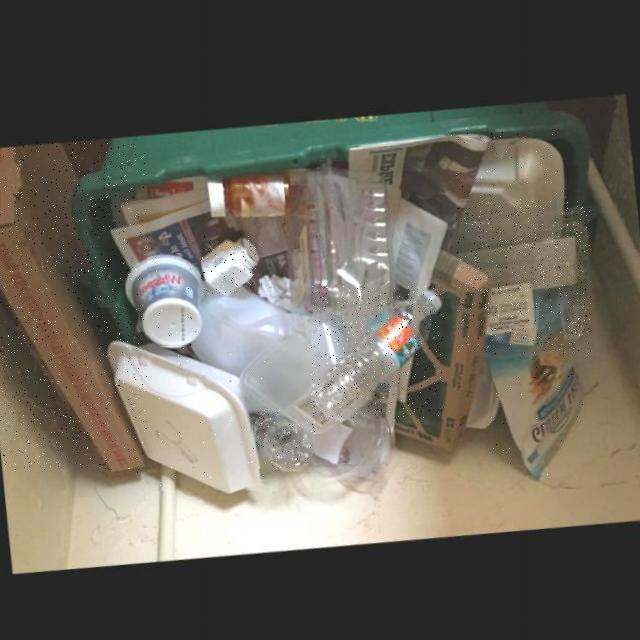paper: (0, 142, 147, 470)
plastic: (457, 201, 591, 354), (311, 287, 444, 419), (126, 253, 205, 346), (252, 410, 315, 469), (202, 235, 261, 294)
styrofoam: (107, 338, 265, 491), (448, 133, 566, 250)
wrapper: (491, 343, 586, 475)
